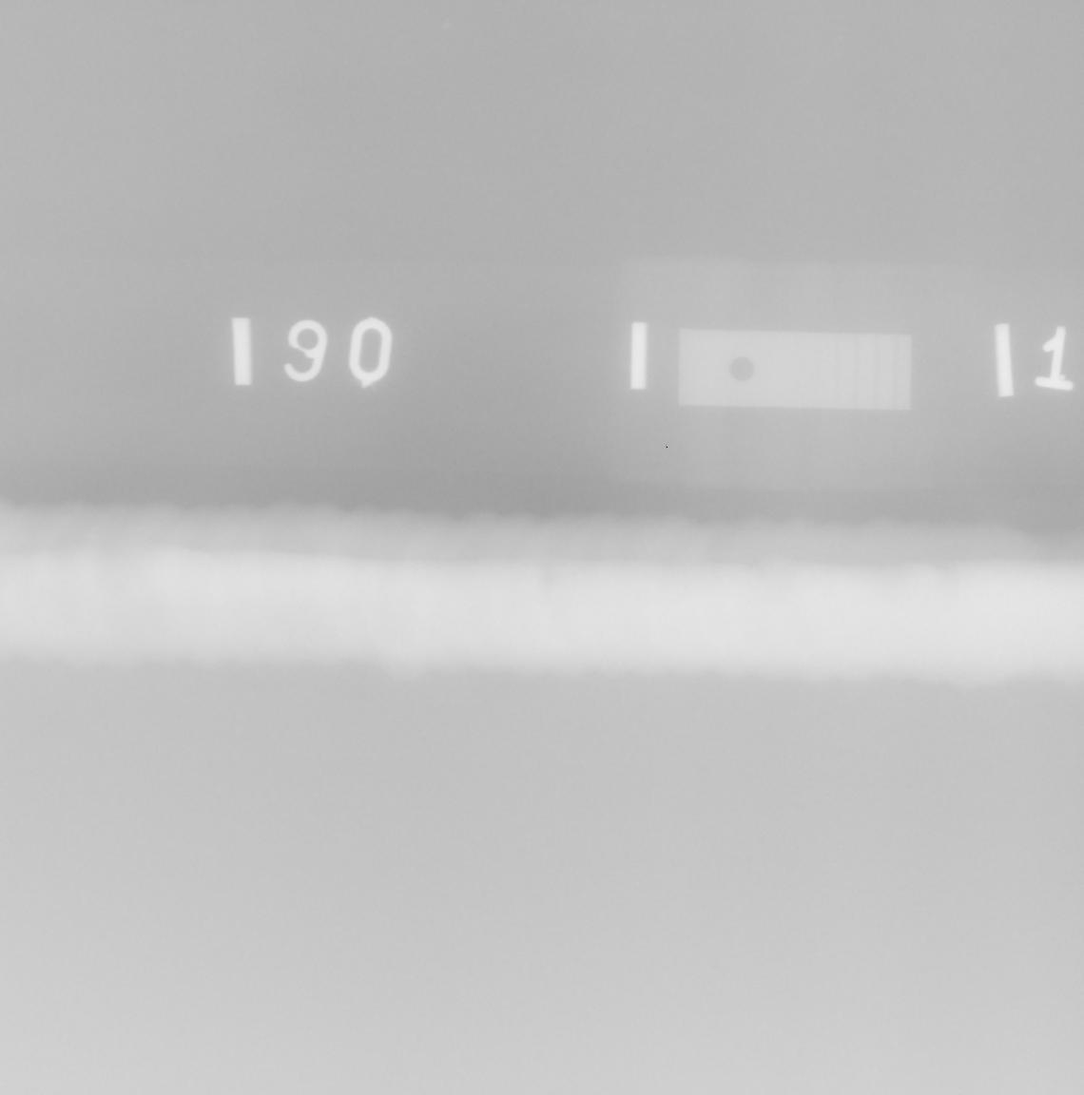Pore/Porosity: (377, 586, 381, 592), (571, 574, 575, 577)
Reference Standard 1: (678, 329, 912, 409)
